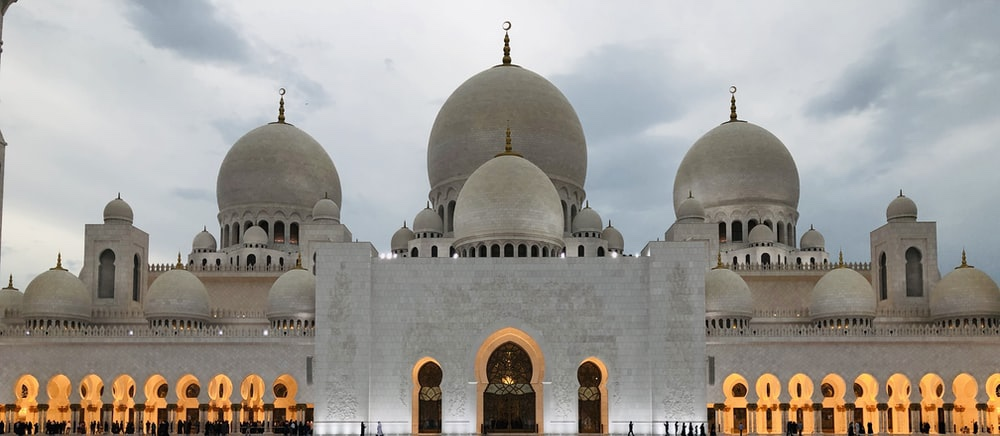Mosque: (11, 50, 991, 423)
